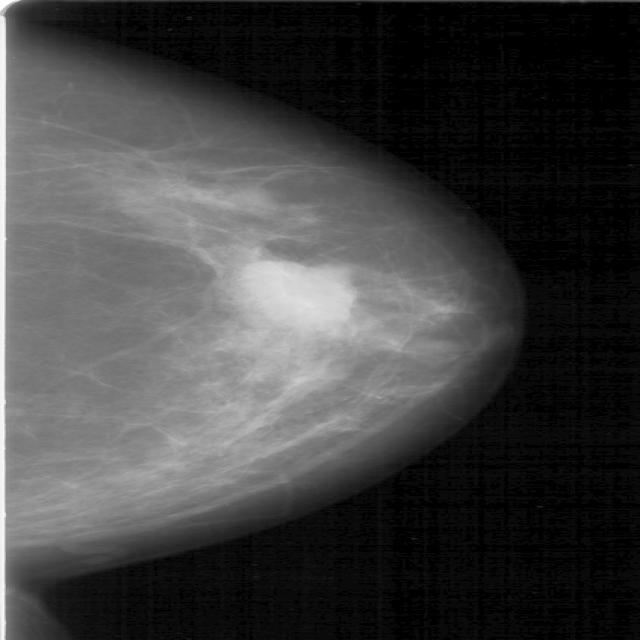tumour: (238, 257, 356, 324)
